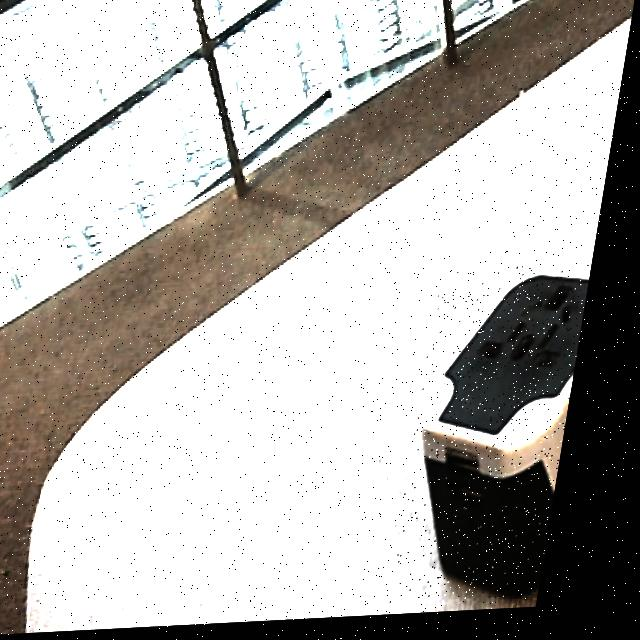adapter: (408, 270, 602, 608)
